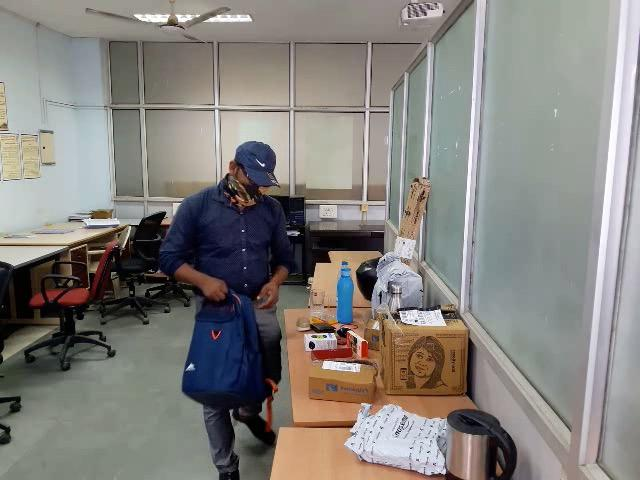Normal: (8, 24, 471, 480)
shoplifting: (161, 244, 322, 407)
